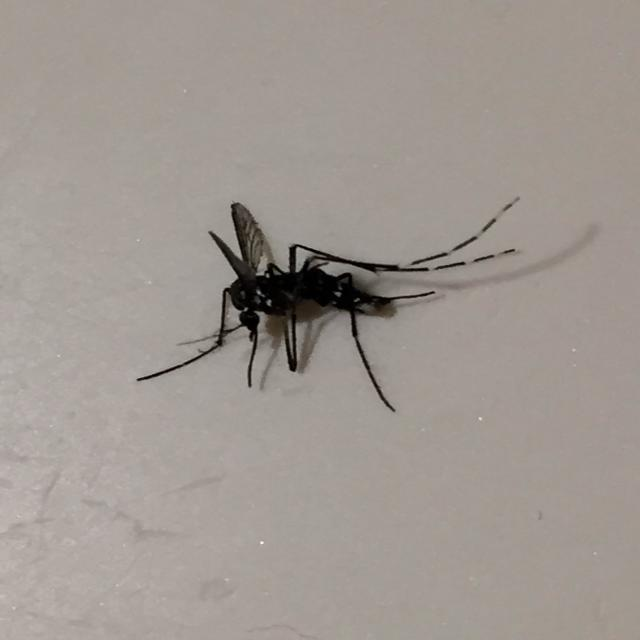albopictus: (142, 175, 511, 414)
